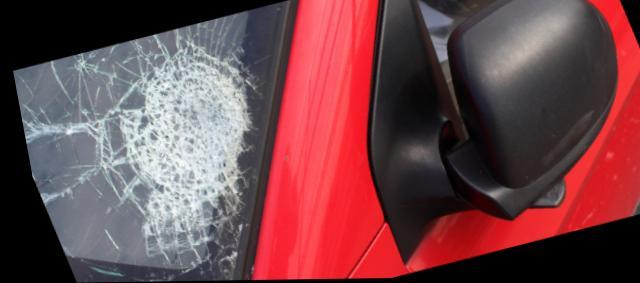glass shatter: (10, 1, 286, 283)
